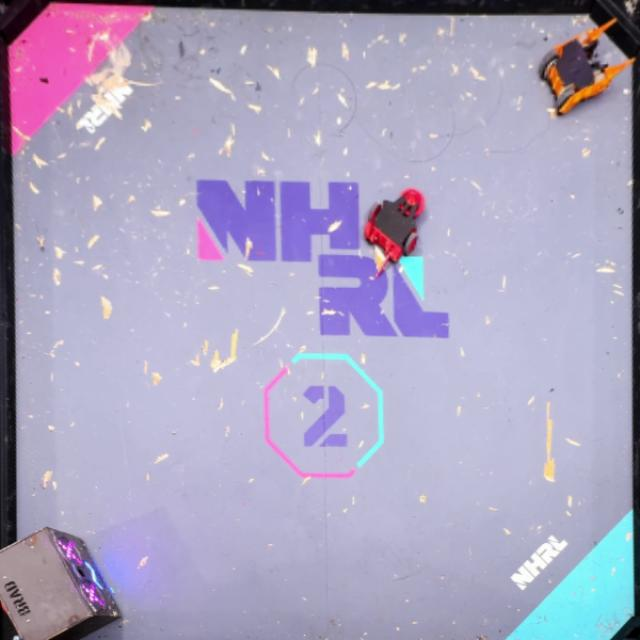housebot: (0, 524, 123, 640)
robot: (537, 16, 638, 118), (364, 188, 425, 277)
